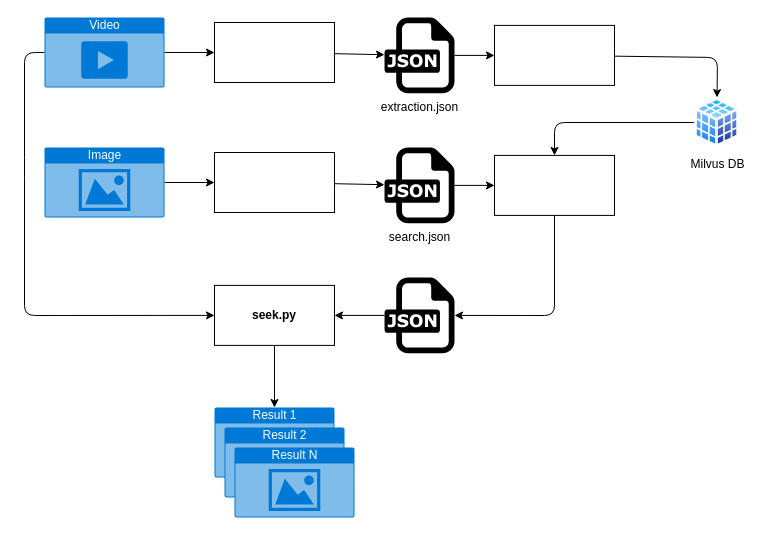
Image size: 761x535. Some labels were removed from this diagram. Here are the shapes that lost their labels. From the top down, the box of each, then its label:
(214, 22, 334, 82): extraction.sh
(494, 24, 614, 85): insertion.py
(214, 152, 334, 212): search.sh
(494, 154, 614, 215): query.py
(384, 276, 454, 353): results.json
